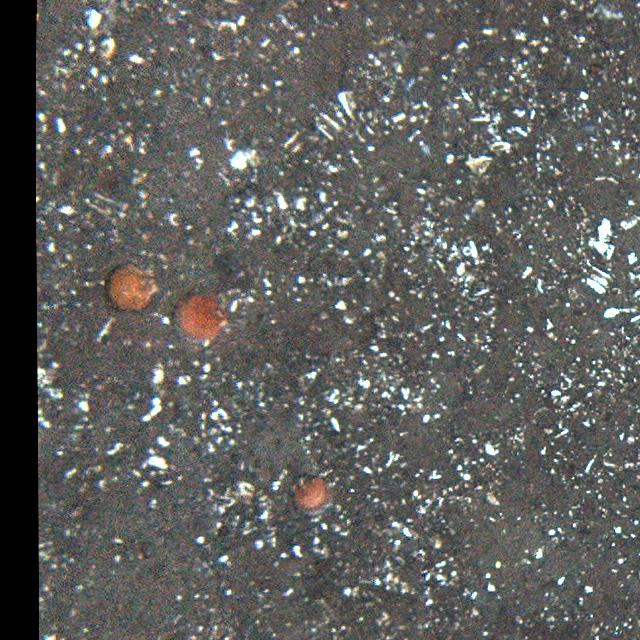scallop: (172, 289, 227, 344), (100, 260, 159, 311), (288, 475, 332, 513)
